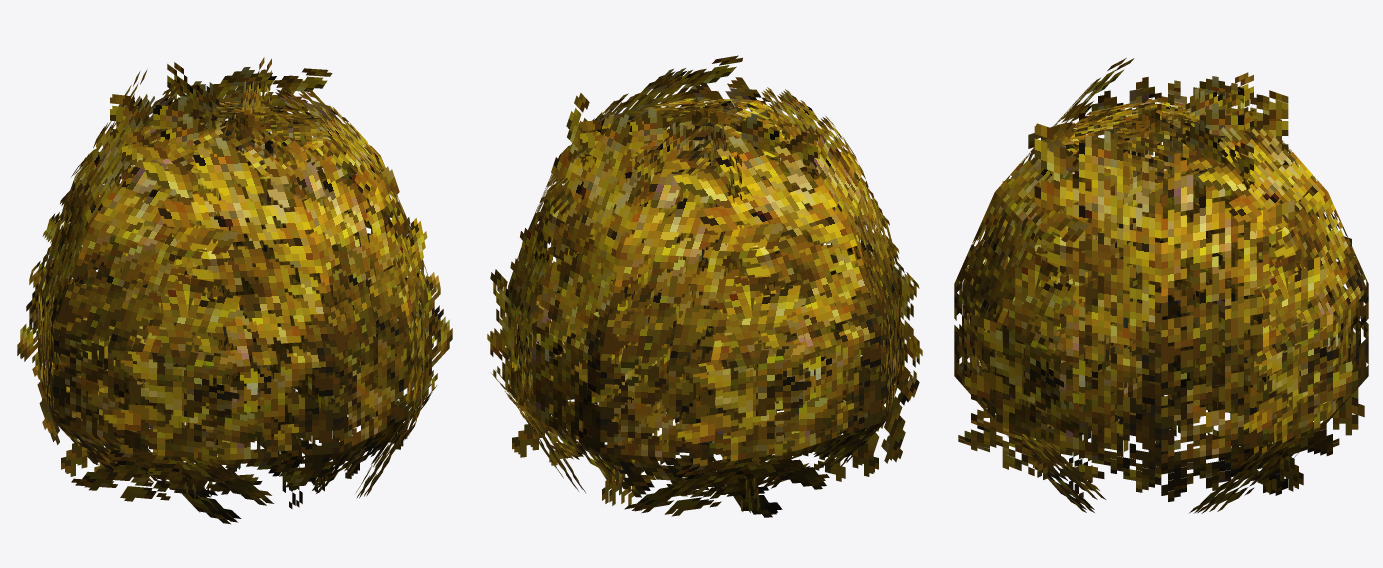
File: bush03_fall.glb
The picture shows the model from 3 angles, left to right: view 1: azimuth 30°, elevation 25°; view 2: azimuth 150°, elevation 25°; view 3: azimuth 270°, elevation 25°; orthographic projection.
Parts seen in each view (by area): view 1: bush03; view 2: bush03; view 3: bush03.
Boxes of the visible parts, x1,y1,x2,y2 form: bush03: (17,57,452,524); bush03: (487,55,922,517); bush03: (954,58,1368,513).
Size of the model in its own units: 1.53 by 1.5 by 1.53.
1 material, 1 textured.
